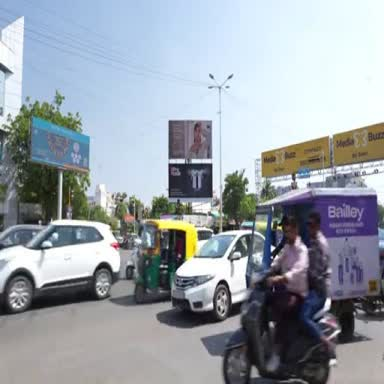Car: (0, 220, 120, 314), (171, 230, 251, 321), (0, 224, 44, 250), (126, 238, 140, 279), (196, 227, 214, 250), (126, 233, 138, 249), (112, 231, 124, 246), (378, 229, 383, 260), (130, 234, 138, 248)
